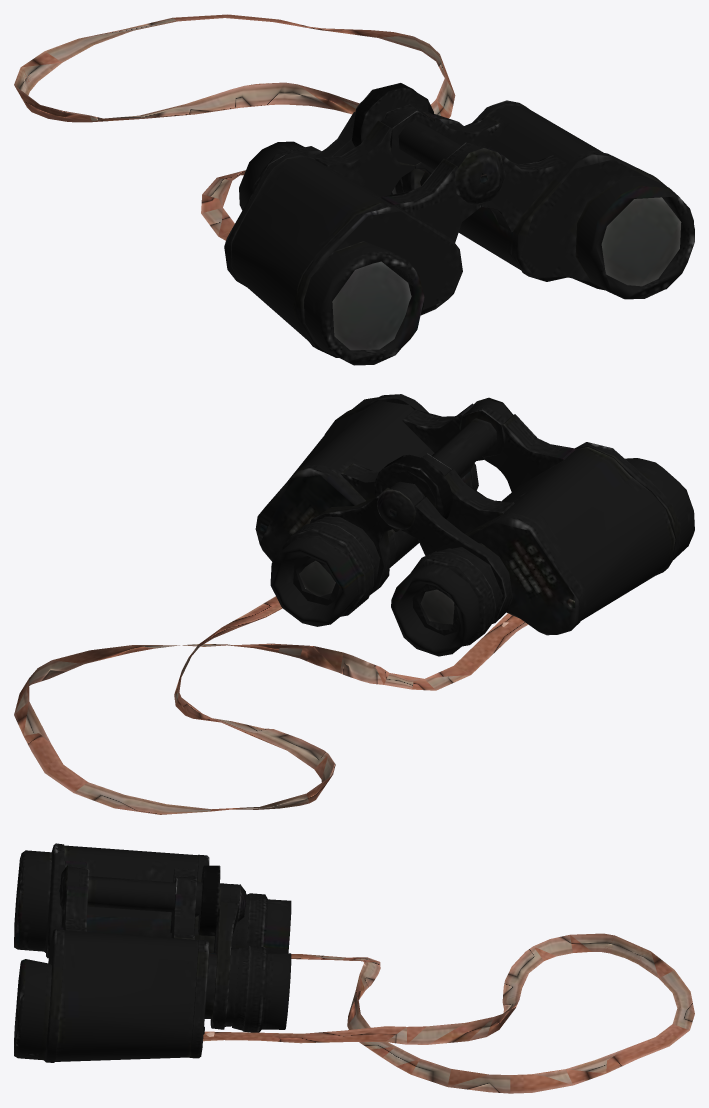
Rendered from binos.glb.
3 renders of one model, top to bottom at view 1: azimuth 30°, elevation 25°; view 2: azimuth 150°, elevation 25°; view 3: azimuth 270°, elevation 25°, orthographic. The views are drawn at different scales.
Parts seen in each view (by area): view 1: m; view 2: m; view 3: m.
Part boxes in pixels (bbox=[...]): m: bbox=[14, 14, 694, 365]; m: bbox=[14, 394, 694, 814]; m: bbox=[14, 843, 694, 1093].
Bounding box in the file's own units: 0.1898 × 0.0748 × 0.3272.
2 materials, 2 textured.
